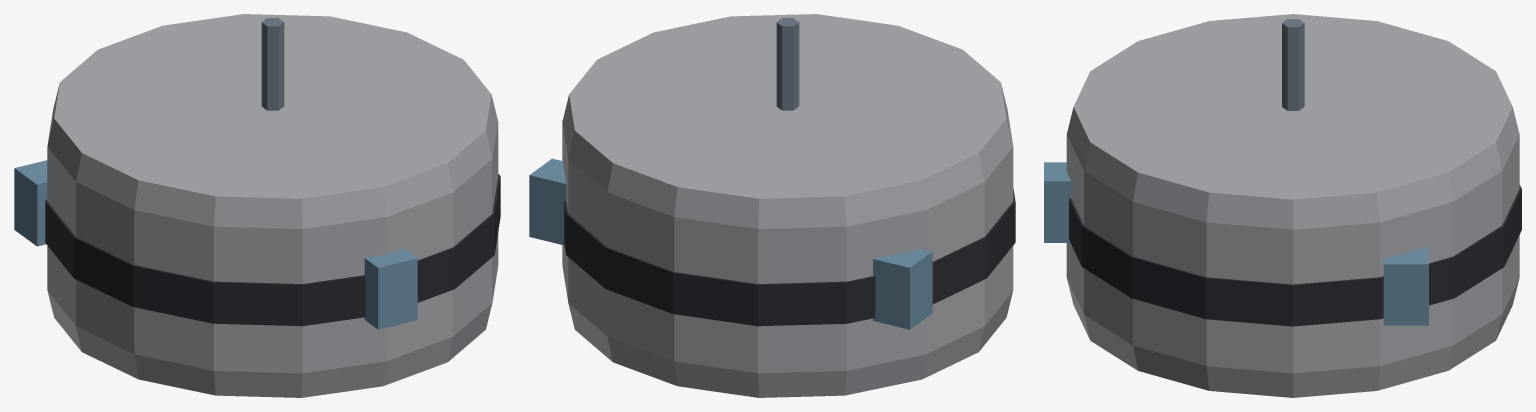
File: Avi_S.fbx
3 views of the same model, side by side, from view 1: azimuth 30°, elevation 25°; view 2: azimuth 150°, elevation 25°; view 3: azimuth 270°, elevation 25° (orthographic).
Visible parts, largest first — view 1: Avi_S; view 2: Avi_S; view 3: Avi_S.
Boxes of the visible parts, x1=… form: Avi_S: x1=14, y1=14, x2=500, y2=397; Avi_S: x1=529, y1=14, x2=1015, y2=397; Avi_S: x1=1044, y1=14, x2=1521, y2=397.
Size of the model in its own units: 1.21 by 0.825 by 1.27.
Materials: 1 (1 with a texture image).
